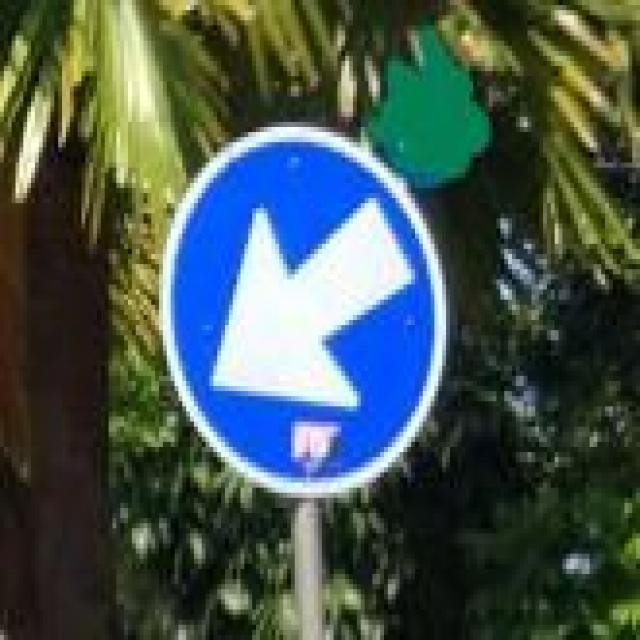traffic sign: (171, 137, 438, 488)
